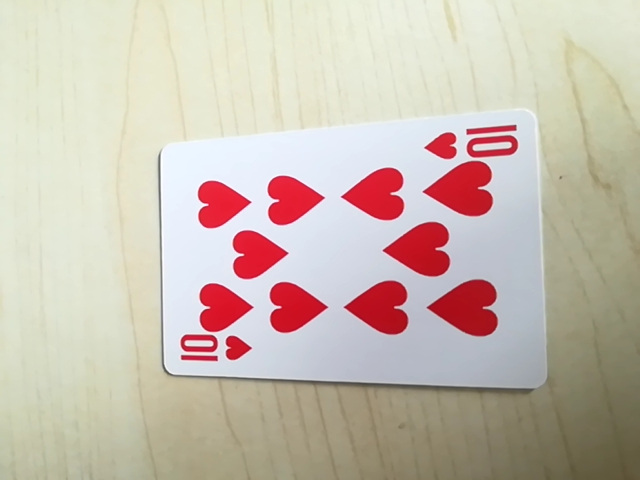hx 10: (421, 120, 524, 164), (170, 330, 254, 373)
